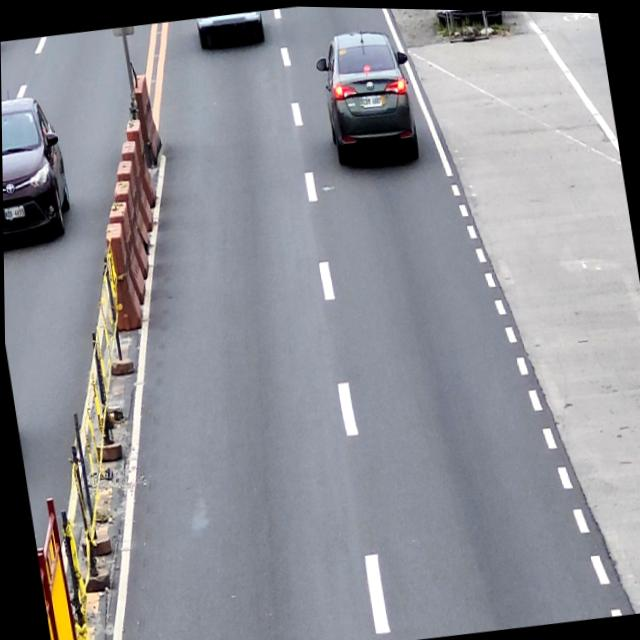Car: (312, 22, 422, 174)
License-Plate: (361, 91, 383, 108)
